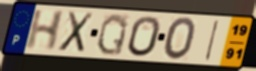H: (23, 9, 67, 52)
I: (203, 19, 221, 63)
O: (162, 16, 198, 62), (126, 15, 162, 59)
Q: (95, 12, 130, 57)
X: (56, 10, 96, 54)
